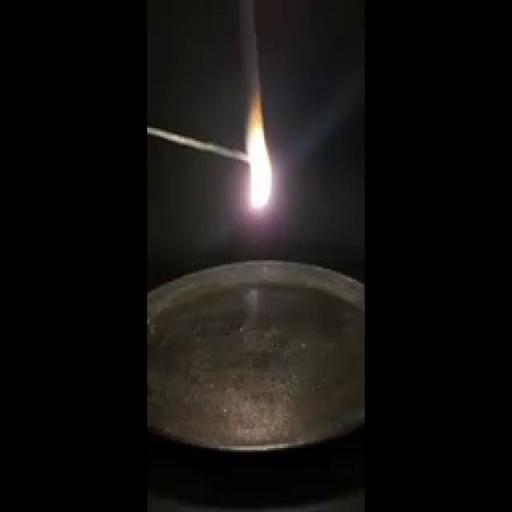smoke: (238, 83, 272, 218)
